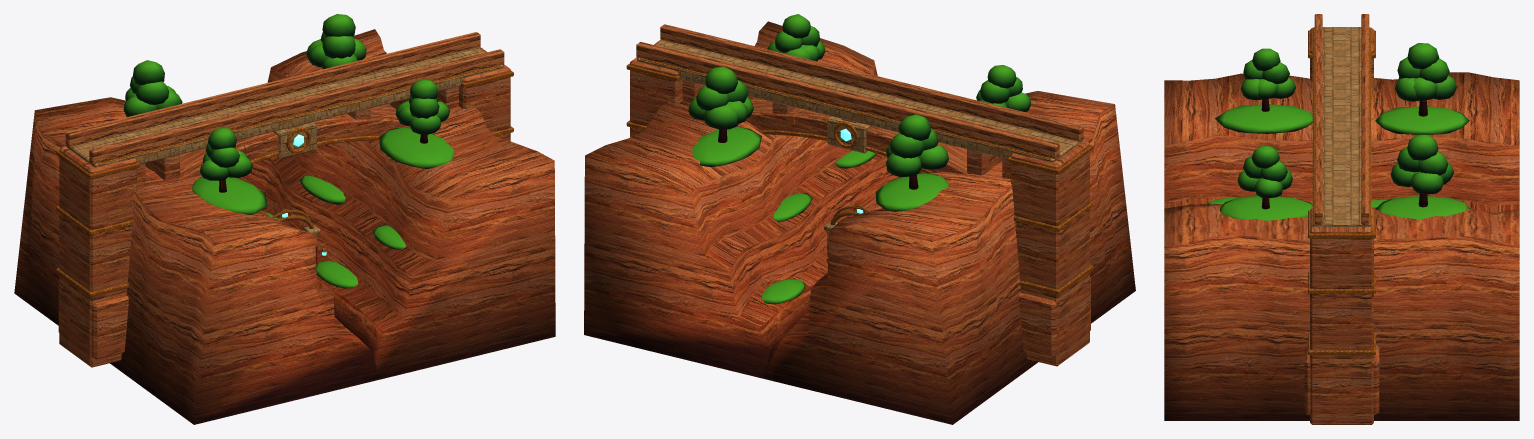
The model's file is env_rapids_gorge.glb.
3 views of the same model, side by side, from view 1: azimuth 30°, elevation 25°; view 2: azimuth 150°, elevation 25°; view 3: azimuth 270°, elevation 25° (orthographic). The views are drawn at different scales.
Visible parts, largest first — view 1: CliffBank_Right, CliffBank_Left, AqueductBridge_High; view 2: CliffBank_Right, CliffBank_Left, AqueductBridge_High; view 3: CliffBank_Right, CliffBank_Left, AqueductBridge_High.
Part boxes in pixels (x1,y1,x2,y2): CliffBank_Right: [237, 14, 555, 381]; CliffBank_Left: [14, 60, 379, 424]; AqueductBridge_High: [56, 32, 513, 367]; CliffBank_Right: [584, 14, 899, 380]; CliffBank_Left: [763, 65, 1135, 424]; AqueductBridge_High: [626, 24, 1093, 366]; CliffBank_Right: [1164, 134, 1519, 420]; CliffBank_Left: [1164, 43, 1519, 213]; AqueductBridge_High: [1304, 14, 1379, 424].
Size of the model in its own units: 28.62 by 15.92 by 21.
Materials: 7 (5 with a texture image).
